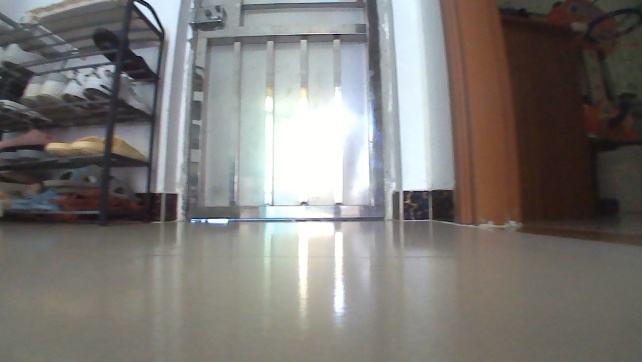door_anno: (173, 0, 391, 229)
shoe: (80, 65, 154, 118)
slipper: (70, 128, 145, 160), (40, 164, 104, 188), (0, 124, 59, 150)
